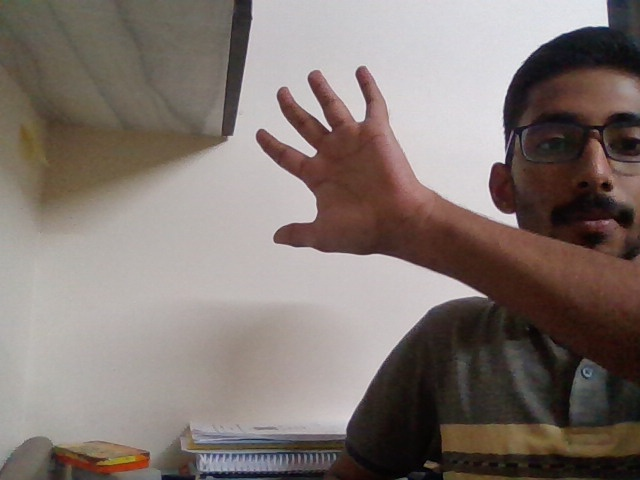Hello: (249, 55, 434, 294)
